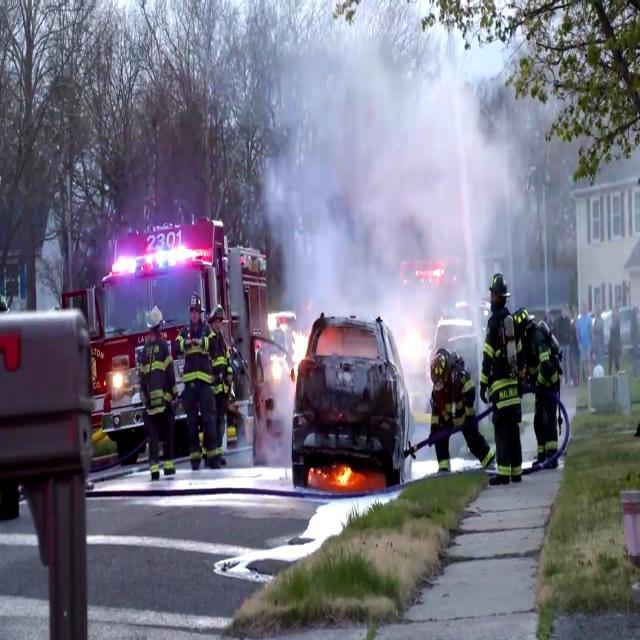Fire: (326, 462, 359, 489)
Smoke: (252, 9, 596, 334)
